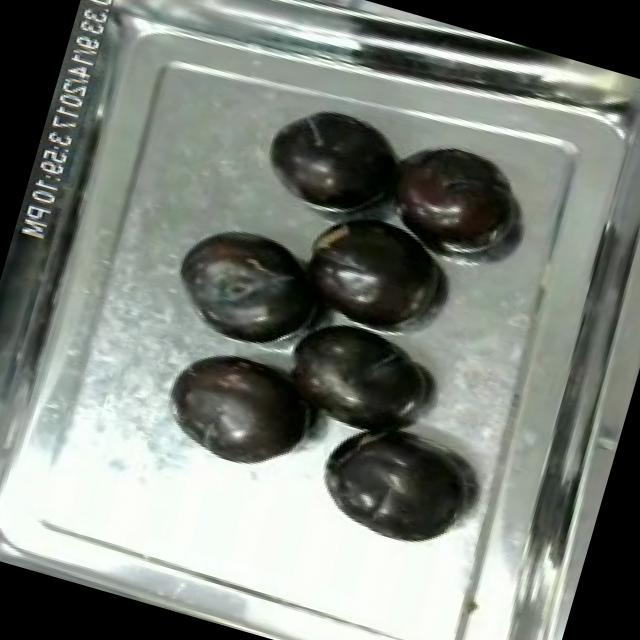Fruit: (147, 330, 333, 489), (158, 208, 340, 362), (306, 408, 484, 564), (280, 195, 460, 349), (268, 301, 450, 445), (245, 89, 414, 234), (372, 133, 526, 274)
